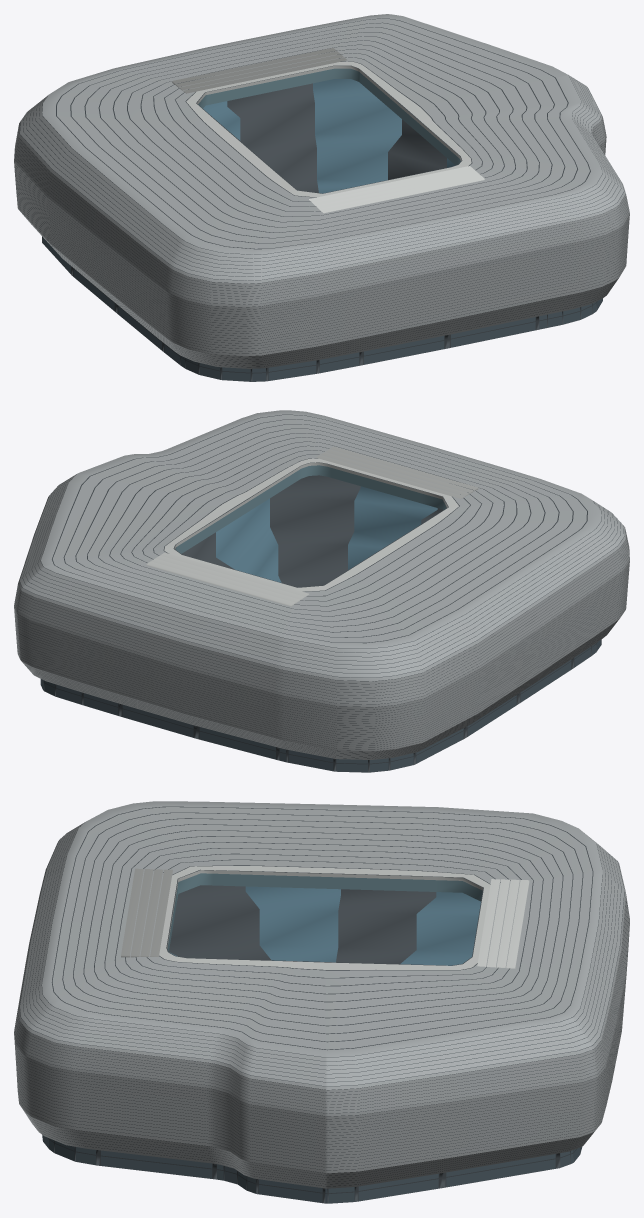
Rendered from santiago-bernabeu-far.glb.
3 views of the same model, one above another, from view 1: azimuth 30°, elevation 25°; view 2: azimuth 150°, elevation 25°; view 3: azimuth 270°, elevation 25° (orthographic). The views are drawn at different scales.
Parts seen in each view (by area): view 1: santiago-bernabeu-0-silver, santiago-bernabeu-0-dark, santiago-bernabeu-0-roof, santiago-bernabeu-0-seating, santiago-bernabeu-0-glass, santiago-bernabeu-0-glow; view 2: santiago-bernabeu-0-silver, santiago-bernabeu-0-dark, santiago-bernabeu-0-roof, santiago-bernabeu-0-seating, santiago-bernabeu-0-glass, santiago-bernabeu-0-glow; view 3: santiago-bernabeu-0-silver, santiago-bernabeu-0-dark, santiago-bernabeu-0-roof, santiago-bernabeu-0-seating, santiago-bernabeu-0-glass, santiago-bernabeu-0-glow.
Part boxes in pixels (<box>): santiago-bernabeu-0-silver: <box>14,14,629,368</box>; santiago-bernabeu-0-dark: <box>14,18,628,381</box>; santiago-bernabeu-0-roof: <box>172,48,484,213</box>; santiago-bernabeu-0-seating: <box>203,79,455,193</box>; santiago-bernabeu-0-glass: <box>43,237,602,381</box>; santiago-bernabeu-0-glow: <box>198,68,460,165</box>; santiago-bernabeu-0-silver: <box>14,410,629,759</box>; santiago-bernabeu-0-dark: <box>14,414,629,772</box>; santiago-bernabeu-0-roof: <box>146,446,478,606</box>; santiago-bernabeu-0-seating: <box>216,486,437,582</box>; santiago-bernabeu-0-glass: <box>40,640,601,772</box>; santiago-bernabeu-0-glow: <box>175,465,446,553</box>; santiago-bernabeu-0-silver: <box>14,801,629,1188</box>; santiago-bernabeu-0-dark: <box>14,806,629,1203</box>; santiago-bernabeu-0-roof: <box>121,866,529,969</box>; santiago-bernabeu-0-seating: <box>169,886,480,965</box>; santiago-bernabeu-0-glass: <box>42,1135,581,1203</box>; santiago-bernabeu-0-glow: <box>167,873,482,951</box>.
Size of the model in its own units: 240 by 60 by 222.
